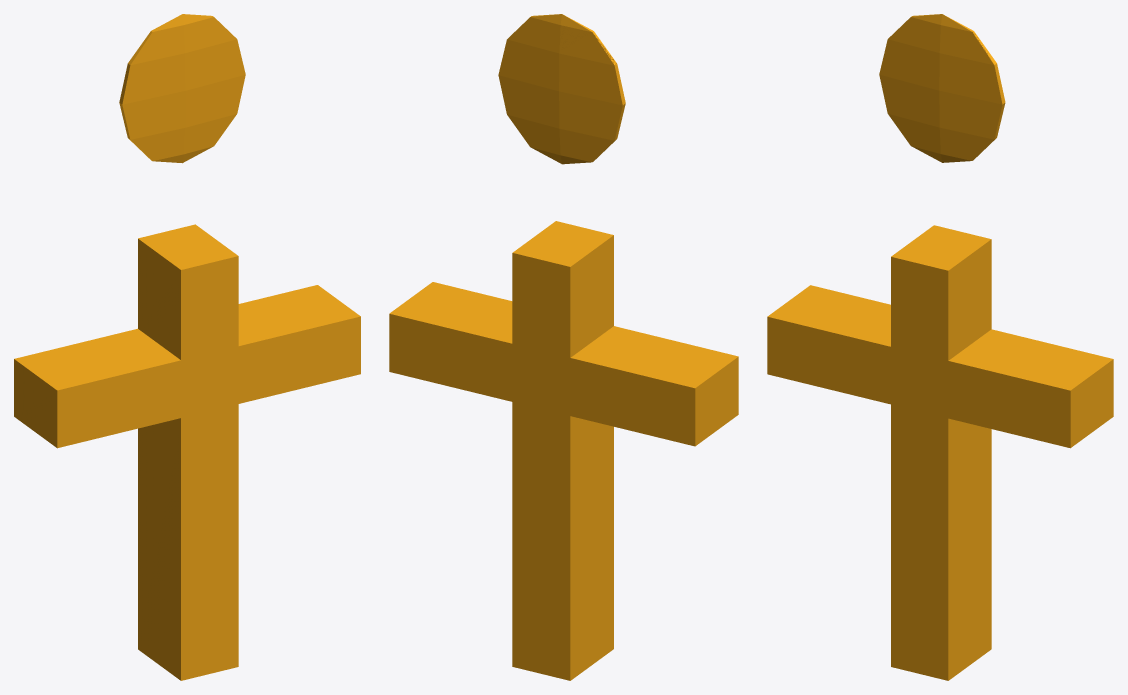
The picture shows the model from 3 angles, left to right: view 1: azimuth 30°, elevation 25°; view 2: azimuth 150°, elevation 25°; view 3: azimuth 330°, elevation 25°; orthographic projection.
Visible parts, largest first — view 1: earring; view 2: earring; view 3: earring.
Boxes of the visible parts, bbox=[...] form: earring: bbox=[14, 14, 360, 680]; earring: bbox=[389, 14, 738, 680]; earring: bbox=[767, 14, 1113, 680].
Bounding box in the file's own units: 0.0993 × 0.2006 × 0.0245.
